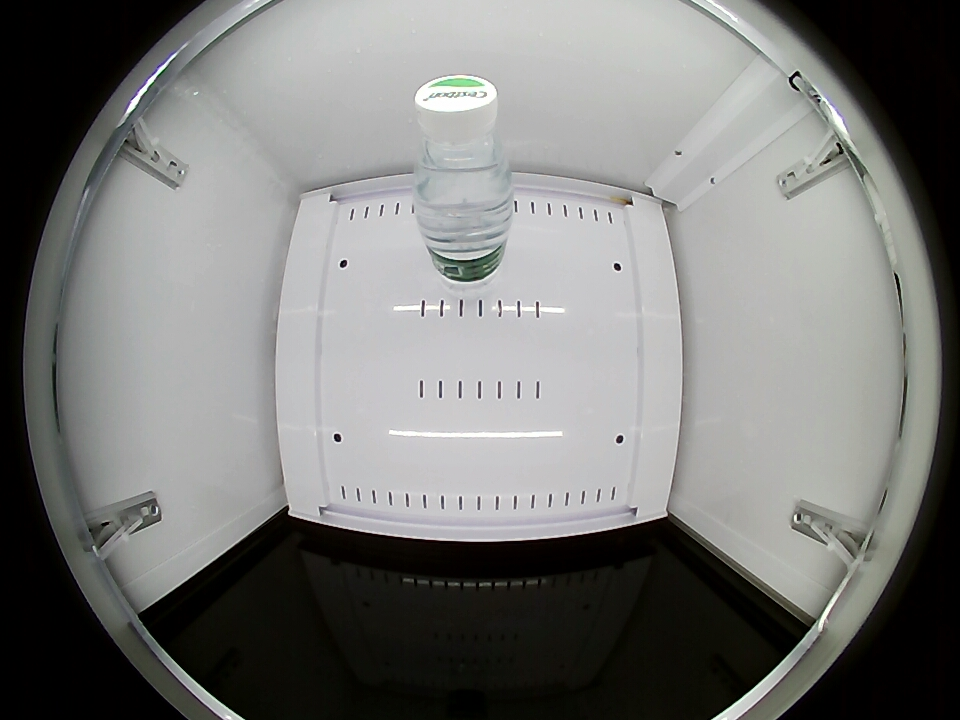yibao: (412, 76, 514, 215)
